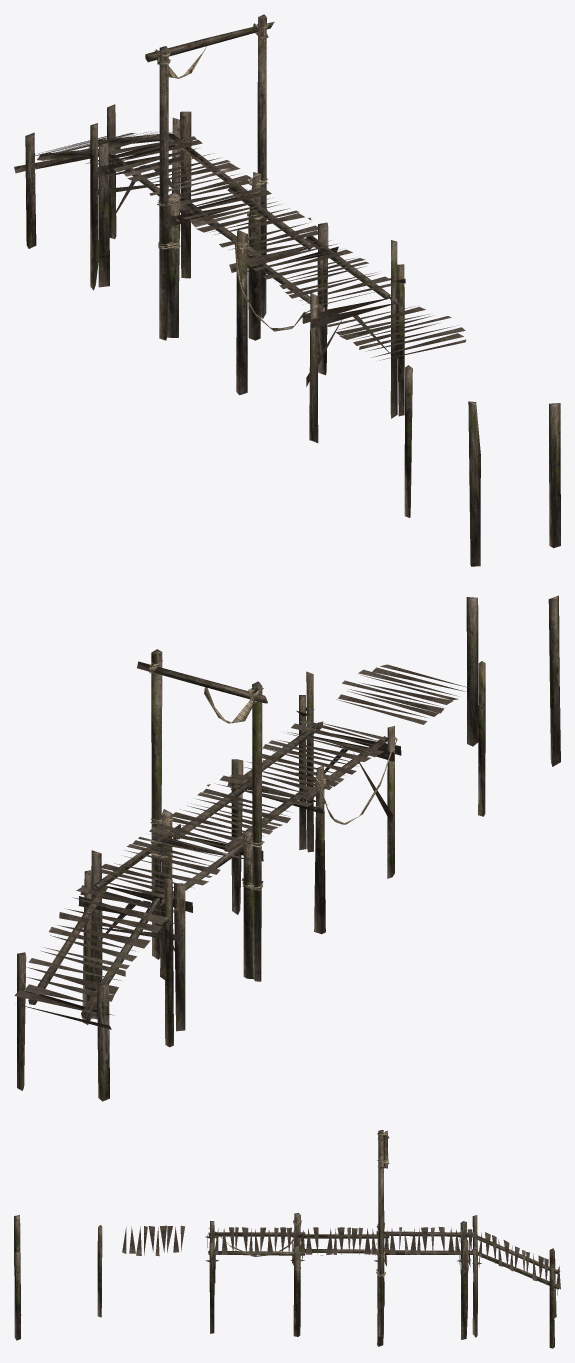
3 views of the same model, one above another, from view 1: azimuth 30°, elevation 25°; view 2: azimuth 150°, elevation 25°; view 3: azimuth 270°, elevation 25° (orthographic). The views are drawn at different scales.
Visible parts, largest first — view 1: modular_wooden_pier_poles, modular_wooden_pier_poles.002, modular_wooden_pier_poles.001; view 2: modular_wooden_pier_poles, modular_wooden_pier_poles.002, modular_wooden_pier_poles.001; view 3: modular_wooden_pier_poles, modular_wooden_pier_poles.002, modular_wooden_pier_poles.001.
Part boxes in pixels (<box>): modular_wooden_pier_poles: <box>25,14,404,442</box>; modular_wooden_pier_poles.002: <box>14,23,466,386</box>; modular_wooden_pier_poles.001: <box>404,365,560,566</box>; modular_wooden_pier_poles: <box>17,649,396,1101</box>; modular_wooden_pier_poles.002: <box>14,660,468,1029</box>; modular_wooden_pier_poles.001: <box>466,595,560,816</box>; modular_wooden_pier_poles: <box>205,1130,560,1348</box>; modular_wooden_pier_poles.002: <box>122,1132,560,1295</box>; modular_wooden_pier_poles.001: <box>14,1215,102,1340</box>.
Size of the model in its own units: 3.1 by 7.5 by 19.
Materials: 3 (3 with a texture image).
